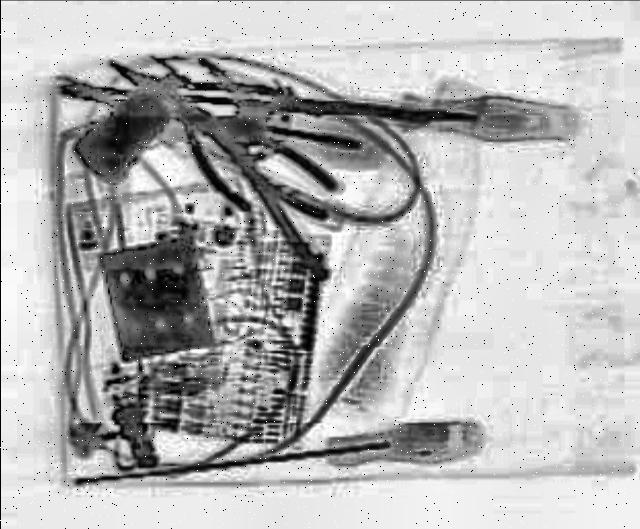Pliers: (73, 34, 344, 238), (55, 72, 372, 154)
